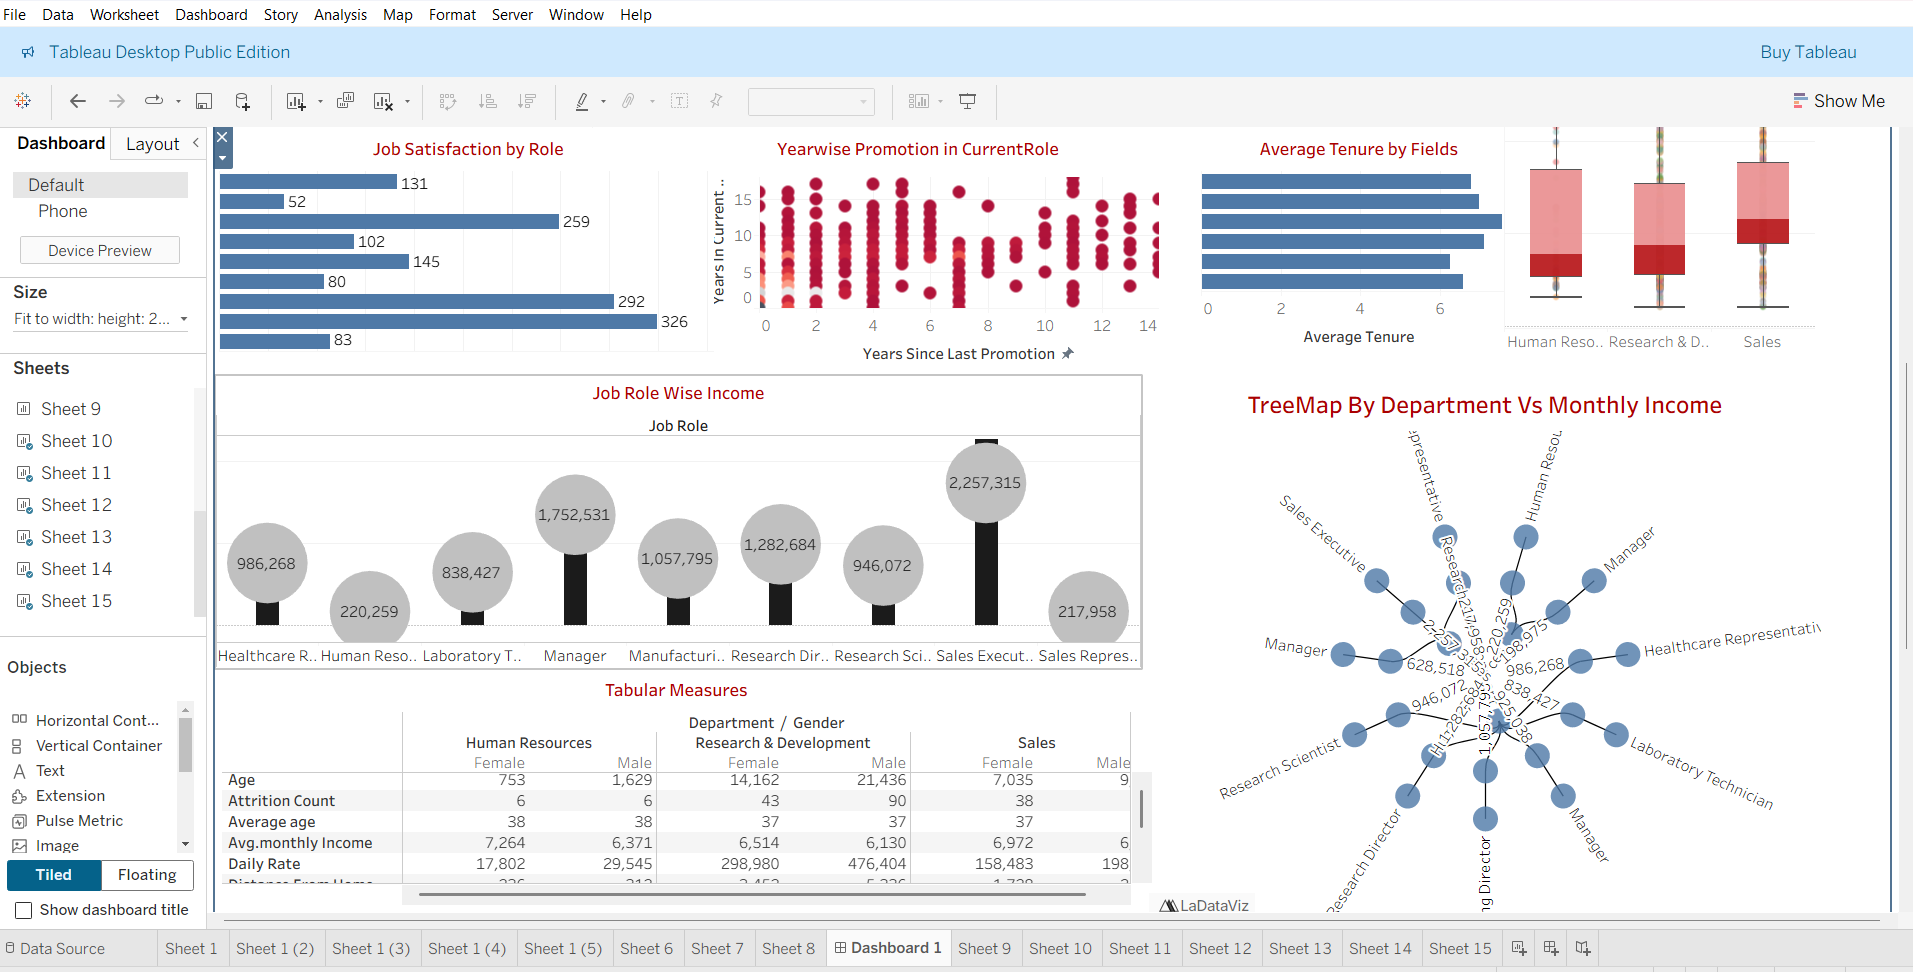

Layout of this report page (visuals, bound fields, positions):
{"tool":"tableau","page":{"name":"Dashboard 1","canvas":[1000,1000],"units":"permille","ordinal":0},"visuals":[{"type":"text","box":[240.2,15.1,385.4,35.4]},{"type":"image","param":"Image/Tableau-logo-2.png","box":[246.1,17,55.9,33]},{"type":"image","param":"Image/LOGO.png","box":[578.3,20.4,36,22.8]},{"type":"worksheet","title":"Sheet 14","mark":"Automatic","box":[26.2,45.1,941.5,78.2]},{"type":"filter","title":"Sheet 15","param":"[federated.1prpmzv1mqqeps12ka48m1tneglw].[none:MonthlyIncome:qk]","box":[20.1,123.8,193.9,30.6]},{"type":"filter","title":"Sheet 11","param":"[federated.1prpmzv1mqqeps12ka48m1tneglw].[none:Gender:nk]","box":[555.5,124.8,222,30.1]},{"type":"filter","title":"Sheet 1","param":"[federated.1prpmzv1mqqeps12ka48m1tneglw].[none:Department:nk]","box":[262.2,125.7,204.9,28.2]},{"type":"worksheet","title":"Sheet 1","mark":"Bar","rows":["Attrition"],"cols":["Department"],"box":[3.1,163.6,222.6,125.7]},{"type":"worksheet","title":"Sheet 1 (4)","mark":"Line","rows":["Attrition"],"cols":["JobRole"],"box":[227.4,166.5,259.1,125.2]},{"type":"worksheet","title":"Sheet 15","mark":"Circle","rows":["MonthlyIncome"],"cols":["Department"],"box":[767.1,169.4,184.2,238.8]},{"type":"worksheet","title":"Sheet 6","mark":"Bar","rows":["Attrition"],"cols":["NumCompaniesWorked"],"box":[490.2,170.4,274.4,116]},{"type":"worksheet","title":"Sheet 10","mark":"Automatic","rows":["JobRole"],"cols":["JobSatisfaction"],"box":[4.3,290.3,295.7,118]},{"type":"worksheet","title":"Sheet 13","mark":"Bar","rows":["EducationField"],"cols":["Calculation_444448998669459461"],"box":[587.8,293.7,186.6,116]},{"type":"text","box":[314.6,294.7,211.6,14.1]},{"type":"worksheet","title":"Sheet 7","mark":"Circle","rows":["YearsInCurrentRole"],"cols":["YearsSinceLastPromotion"],"box":[291.5,308.2,271.3,101.5]},{"type":"worksheet","title":"Sheet 8","mark":"Pie","rows":["MonthlyIncome","MonthlyIncome"],"cols":["JobRole"],"box":[5.5,412.1,547,141.8]},{"type":"worksheet","title":"Sheet 12","box":[557.3,416,397.6,258.7]},{"type":"worksheet","title":"Sheet 11","mark":"Text","cols":["Department","Gender"],"box":[9.2,556.3,550,112.6]}]}

Visuals, with their boxes on the dashboard's canvas, which has no fixed pixel size, in thousandths of its width and height (x1, y1, x2, y2). These are canvas units, not pixel positions in the 1913x972 screenshot, which may show the page scaled, cropped or inside an application window:
text: select_region(240, 15, 626, 50)
image: select_region(246, 17, 302, 50)
image: select_region(578, 20, 614, 43)
"Sheet 14" worksheet: select_region(26, 45, 968, 123)
"Sheet 15" filter: select_region(20, 124, 214, 154)
"Sheet 11" filter: select_region(556, 125, 778, 155)
"Sheet 1" filter: select_region(262, 126, 467, 154)
"Sheet 1" worksheet (Bar marks): select_region(3, 164, 226, 289)
"Sheet 1 (4)" worksheet (Line marks): select_region(227, 166, 486, 292)
"Sheet 15" worksheet (Circle marks): select_region(767, 169, 951, 408)
"Sheet 6" worksheet (Bar marks): select_region(490, 170, 765, 286)
"Sheet 10" worksheet: select_region(4, 290, 300, 408)
"Sheet 13" worksheet (Bar marks): select_region(588, 294, 774, 410)
text: select_region(315, 295, 526, 309)
"Sheet 7" worksheet (Circle marks): select_region(292, 308, 563, 410)
"Sheet 8" worksheet (Pie marks): select_region(6, 412, 552, 554)
"Sheet 12" worksheet: select_region(557, 416, 955, 675)
"Sheet 11" worksheet (Text marks): select_region(9, 556, 559, 669)
